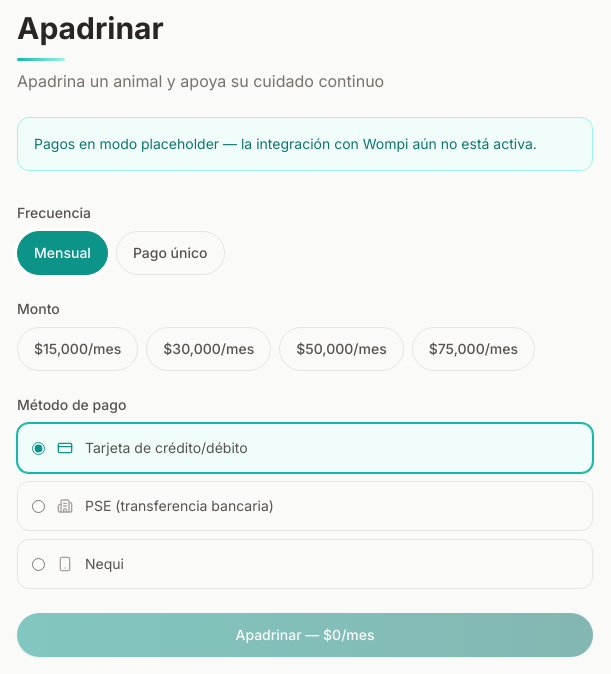
Test: CheckoutApadrinamientoPage › allows changing payment method to PSE
The width and height of the screenshot is (611, 674).
Step 1. Click the radio button showing "pse" → (38, 506), box [32, 500, 45, 512]
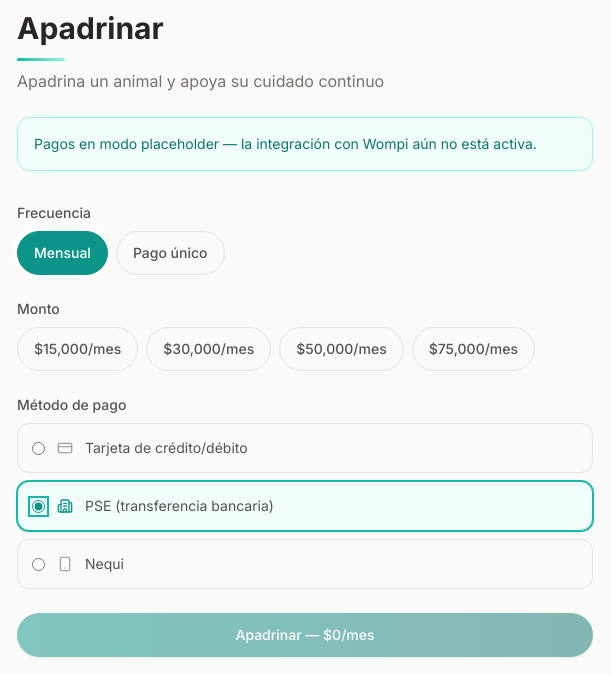
Now the radio button showing "pse" is checked, box [32, 500, 45, 512]
Now the radio button showing "card" is not checked, box [32, 442, 45, 454]
